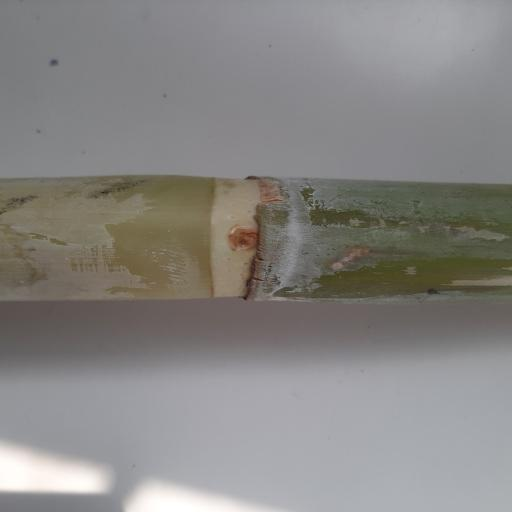Damage_Bud: (229, 223, 260, 251)
